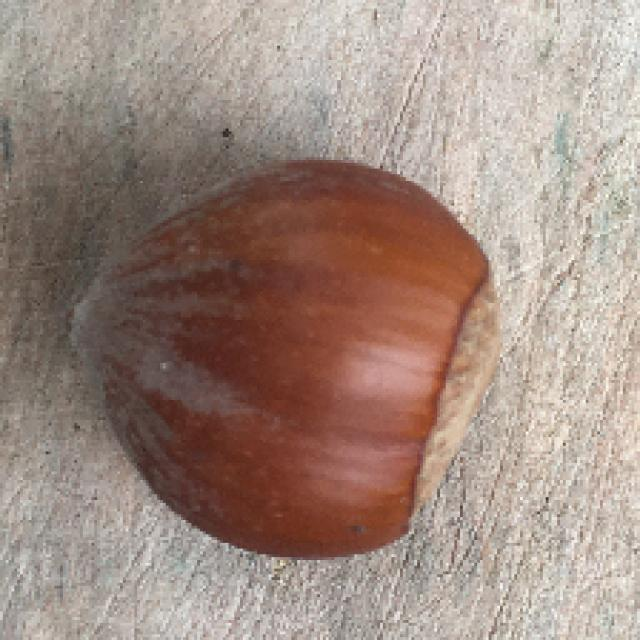qualityHazelnut: (57, 148, 512, 566)
